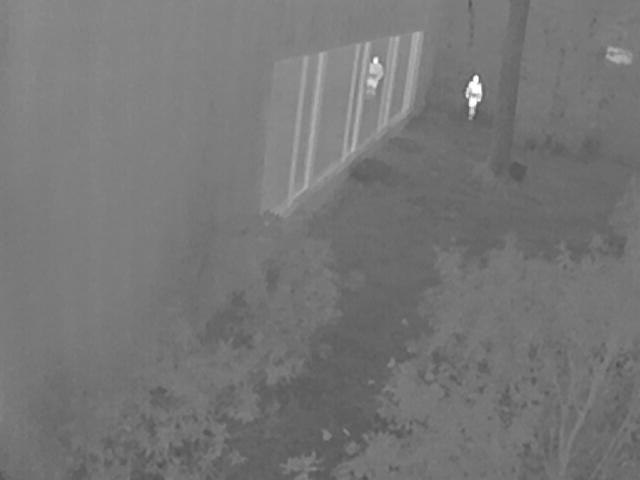person: (466, 73, 485, 120), (366, 55, 385, 95)
